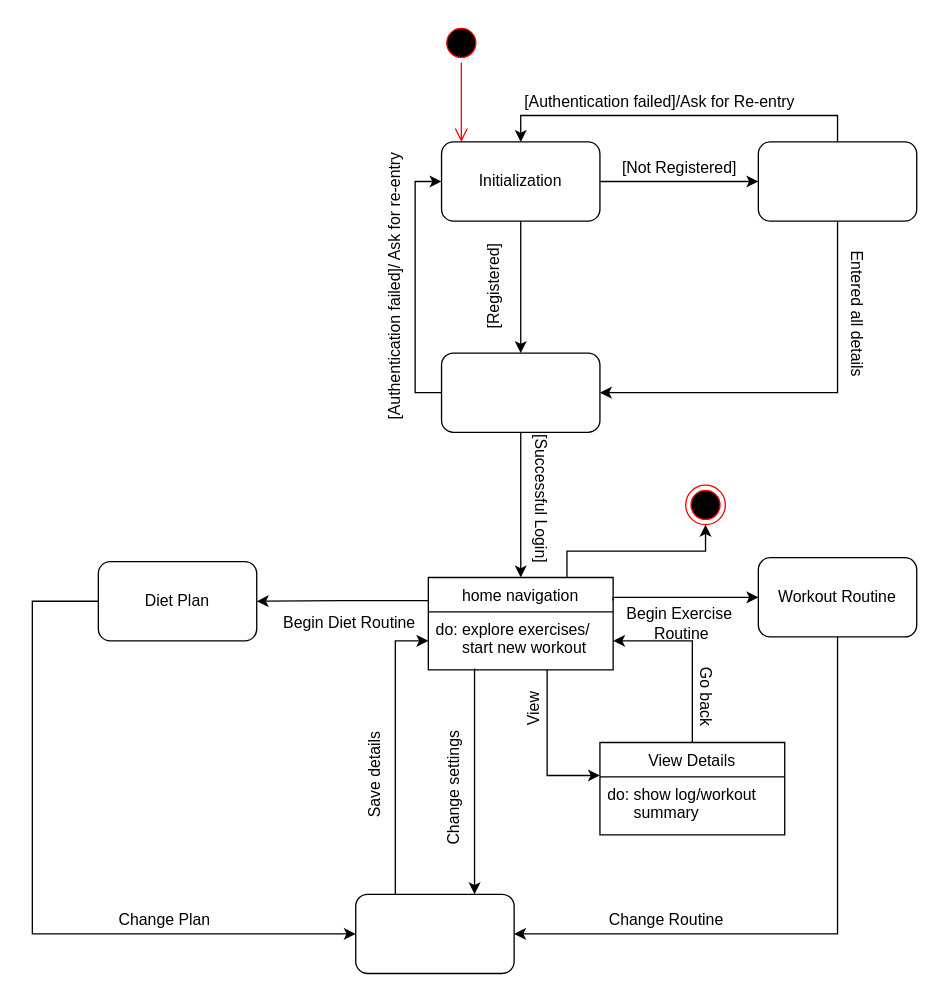
The diagram is 940 pixels wide and 997 high, and some of its shapes have lost their labels. Each missing label, with the centre of its shape:
"Alter details" belongs at (434,933).
"SignIn" belongs at (520,392).
"Signup" belongs at (837,181).
